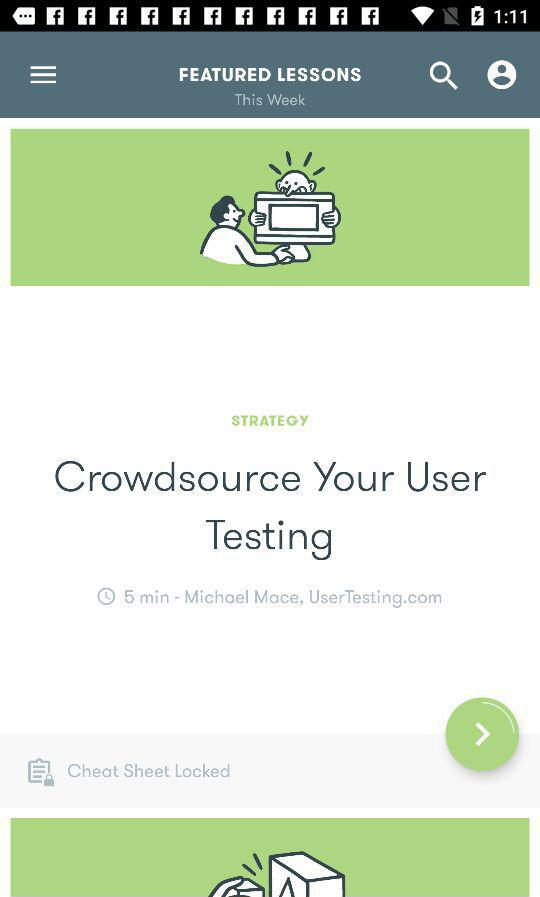Icon: (445, 697, 520, 771), (429, 61, 460, 93), (486, 60, 517, 91), (28, 757, 57, 788), (30, 65, 58, 86), (97, 587, 117, 606)
Image: (11, 130, 529, 287), (11, 818, 530, 897)
Text: (55, 461, 488, 562), (125, 589, 442, 610), (179, 67, 362, 84), (68, 762, 231, 780), (234, 93, 307, 108), (232, 414, 309, 428)
Toolbar: (1, 33, 540, 119)
UpperTaskBar: (1, 1, 540, 33)
